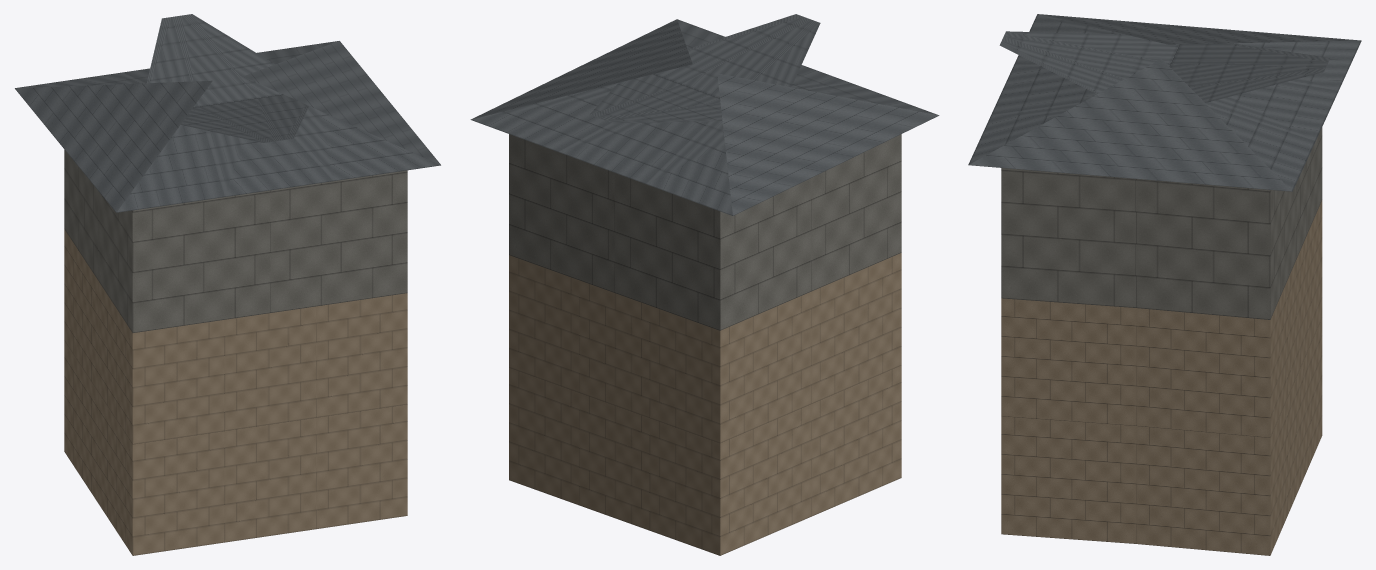
The model's file is bld_c10_15_452.gltf.
3 views of the same model, side by side, from view 1: azimuth 30°, elevation 25°; view 2: azimuth 150°, elevation 25°; view 3: azimuth 270°, elevation 25° (orthographic). The views are drawn at different scales.
Parts seen in each view (by area): view 1: bld_c10_15_452; view 2: bld_c10_15_452; view 3: bld_c10_15_452.
Part boxes in pixels (x1,y1,x2,y2): bld_c10_15_452: (15,14,440,555); bld_c10_15_452: (470,14,939,555); bld_c10_15_452: (968,14,1361,555).
Bounding box in the file's own units: 7.45 × 8.4 × 6.97.
3 materials, 3 textured.
